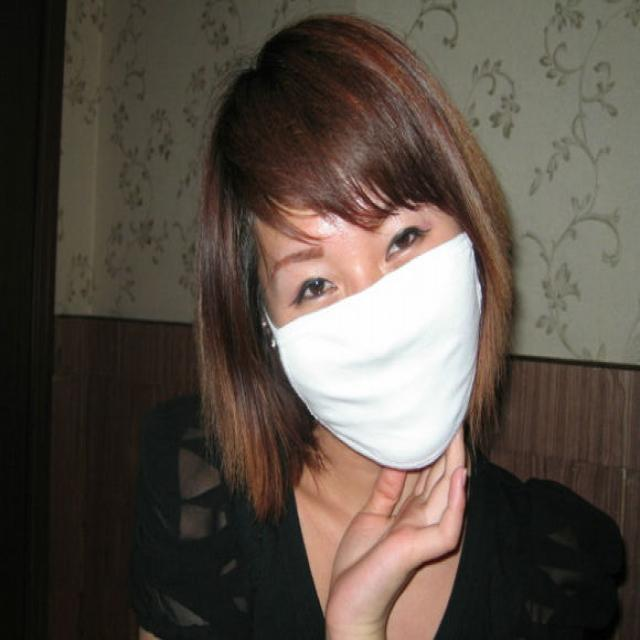mask: (270, 175, 483, 472)
